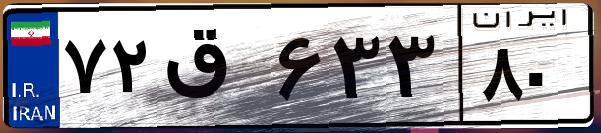0: (525, 38, 570, 115)
2: (110, 28, 158, 98)
3: (385, 28, 445, 110), (330, 28, 385, 110)
6: (270, 28, 330, 110)
7: (57, 26, 110, 100)
8: (475, 38, 525, 113)
ق: (158, 20, 270, 120)
